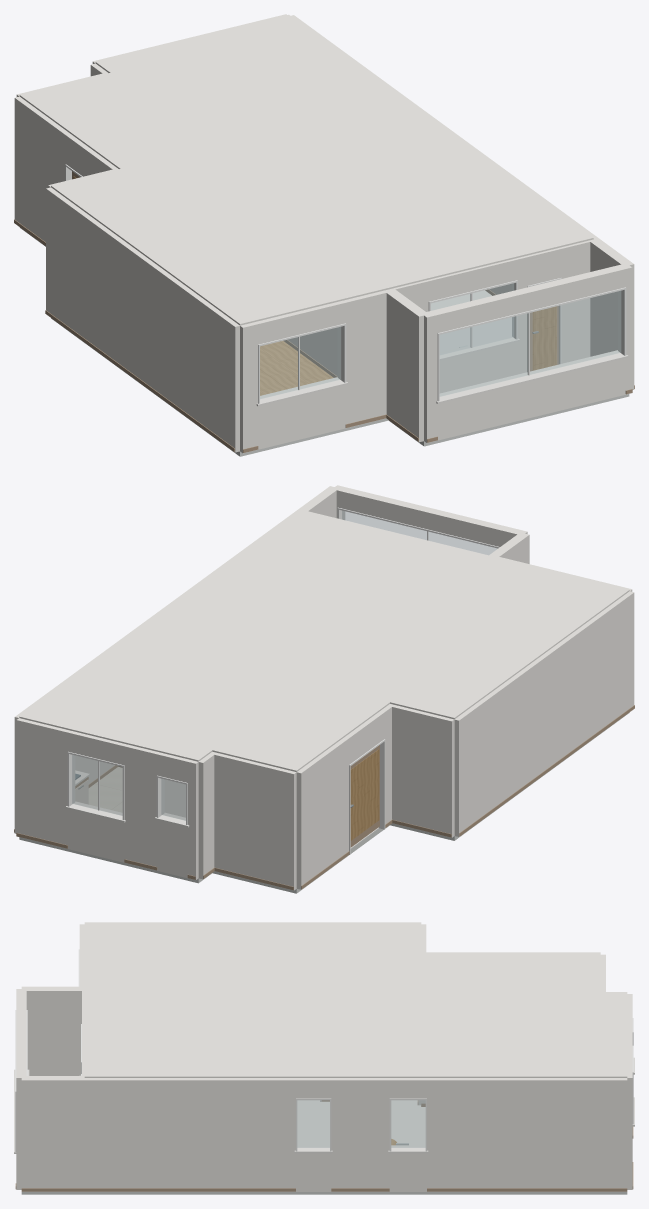
Rendered from option-03.glb.
The picture shows the model from 3 angles, top to bottom: view 1: azimuth 30°, elevation 25°; view 2: azimuth 150°, elevation 25°; view 3: azimuth 270°, elevation 25°; orthographic projection. The views are drawn at different scales.
Visible parts, largest first — view 1: 一居03_ceiling_plaster, 一居03_architecture_plaster, 一居03_glass_glass, 一居03_frames_marble, 一居03_frames_ceramic, 一居03_floor_oak, 一居03_trim_wood, 一居03_floor_marble, 一居03_slab_slab, 门扇_bal-door_oak; view 2: 一居03_ceiling_plaster, 一居03_architecture_plaster, 一居03_glass_glass, 一居03_frames_ceramic, 一居03_trim_wood, 门扇_entry_oak, 一居03_slab_slab, 一居03_floor_tile, 一居03_frames_marble; view 3: 一居03_ceiling_plaster, 一居03_architecture_plaster, 一居03_glass_glass, 一居03_floor_marble, 一居03_trim_wood, 一居03_slab_slab, 一居03_frames_ceramic, 一居03_frames_marble.
Part boxes in pixels (left/top/right/bottom): 一居03_ceiling_plaster: left=19, top=14, right=593, bottom=325; 一居03_architecture_plaster: left=14, top=14, right=634, bottom=453; 一居03_glass_glass: left=260, top=283, right=620, bottom=398; 一居03_frames_marble: left=256, top=336, right=628, bottom=406; 一居03_frames_ceramic: left=65, top=164, right=626, bottom=403; 一居03_floor_oak: left=260, top=341, right=333, bottom=395; 一居03_trim_wood: left=14, top=219, right=634, bottom=452; 一居03_floor_marble: left=431, top=290, right=511, bottom=352; 一居03_slab_slab: left=20, top=227, right=629, bottom=456; 门扇_bal-door_oak: left=532, top=306, right=556, bottom=370; 一居03_ceiling_plaster: left=19, top=510, right=629, bottom=771; 一居03_architecture_plaster: left=14, top=485, right=634, bottom=890; 一居03_glass_glass: left=72, top=511, right=497, bottom=820; 一居03_frames_ceramic: left=67, top=507, right=499, bottom=854; 一居03_trim_wood: left=14, top=705, right=634, bottom=890; 门扇_entry_oak: left=350, top=749, right=379, bottom=840; 一居03_slab_slab: left=19, top=712, right=629, bottom=893; 一居03_floor_tile: left=88, top=767, right=122, bottom=812; 一居03_frames_marble: left=65, top=801, right=189, bottom=827; 一居03_ceiling_plaster: left=84, top=923, right=627, bottom=1077; 一居03_architecture_plaster: left=16, top=922, right=632, bottom=1191; 一居03_glass_glass: left=297, top=1100, right=425, bottom=1147; 一居03_floor_marble: left=297, top=1100, right=425, bottom=1145; 一居03_trim_wood: left=15, top=1100, right=633, bottom=1191; 一居03_slab_slab: left=21, top=1192, right=627, bottom=1194; 一居03_frames_ceramic: left=15, top=949, right=633, bottom=1151; 一居03_frames_marble: left=14, top=1057, right=634, bottom=1153.
Size of the model in its own units: 8.4 by 2.91 by 13.84.
Materials: 17 (2 with a texture image).
